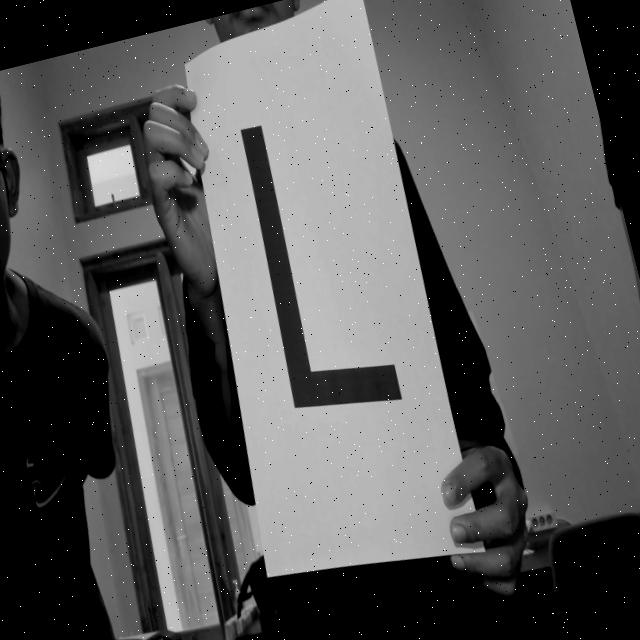l: (215, 87, 419, 449)
